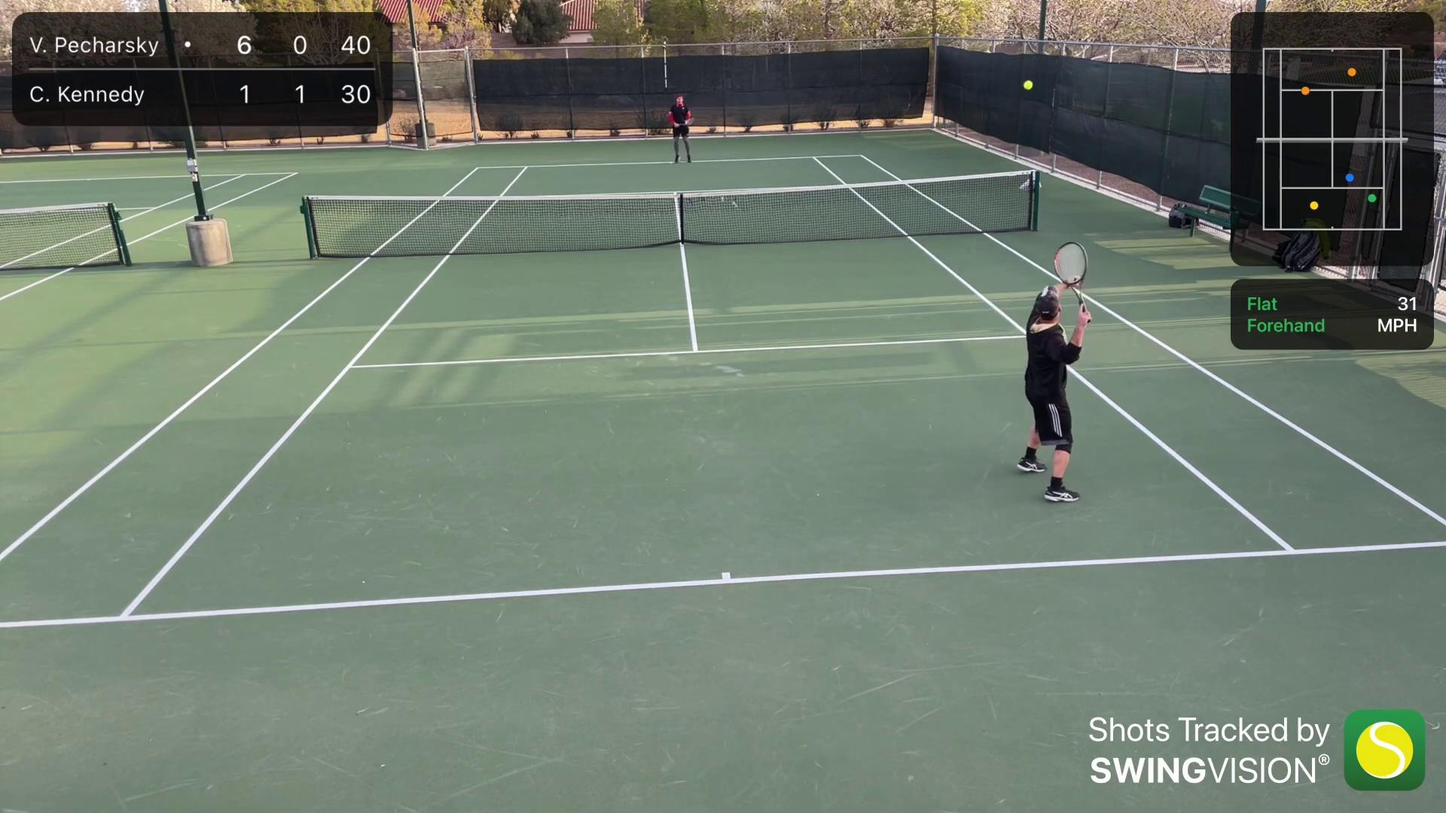ball: (1021, 80, 1034, 92)
